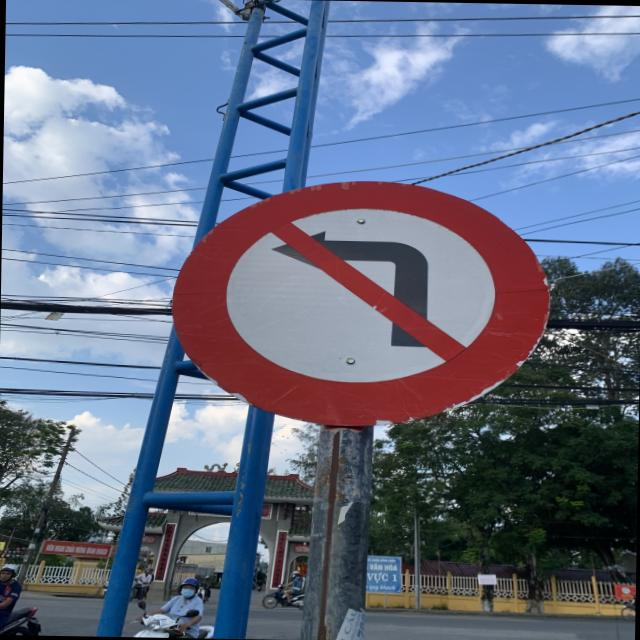Cam_Re_Trai: (168, 176, 554, 430)
